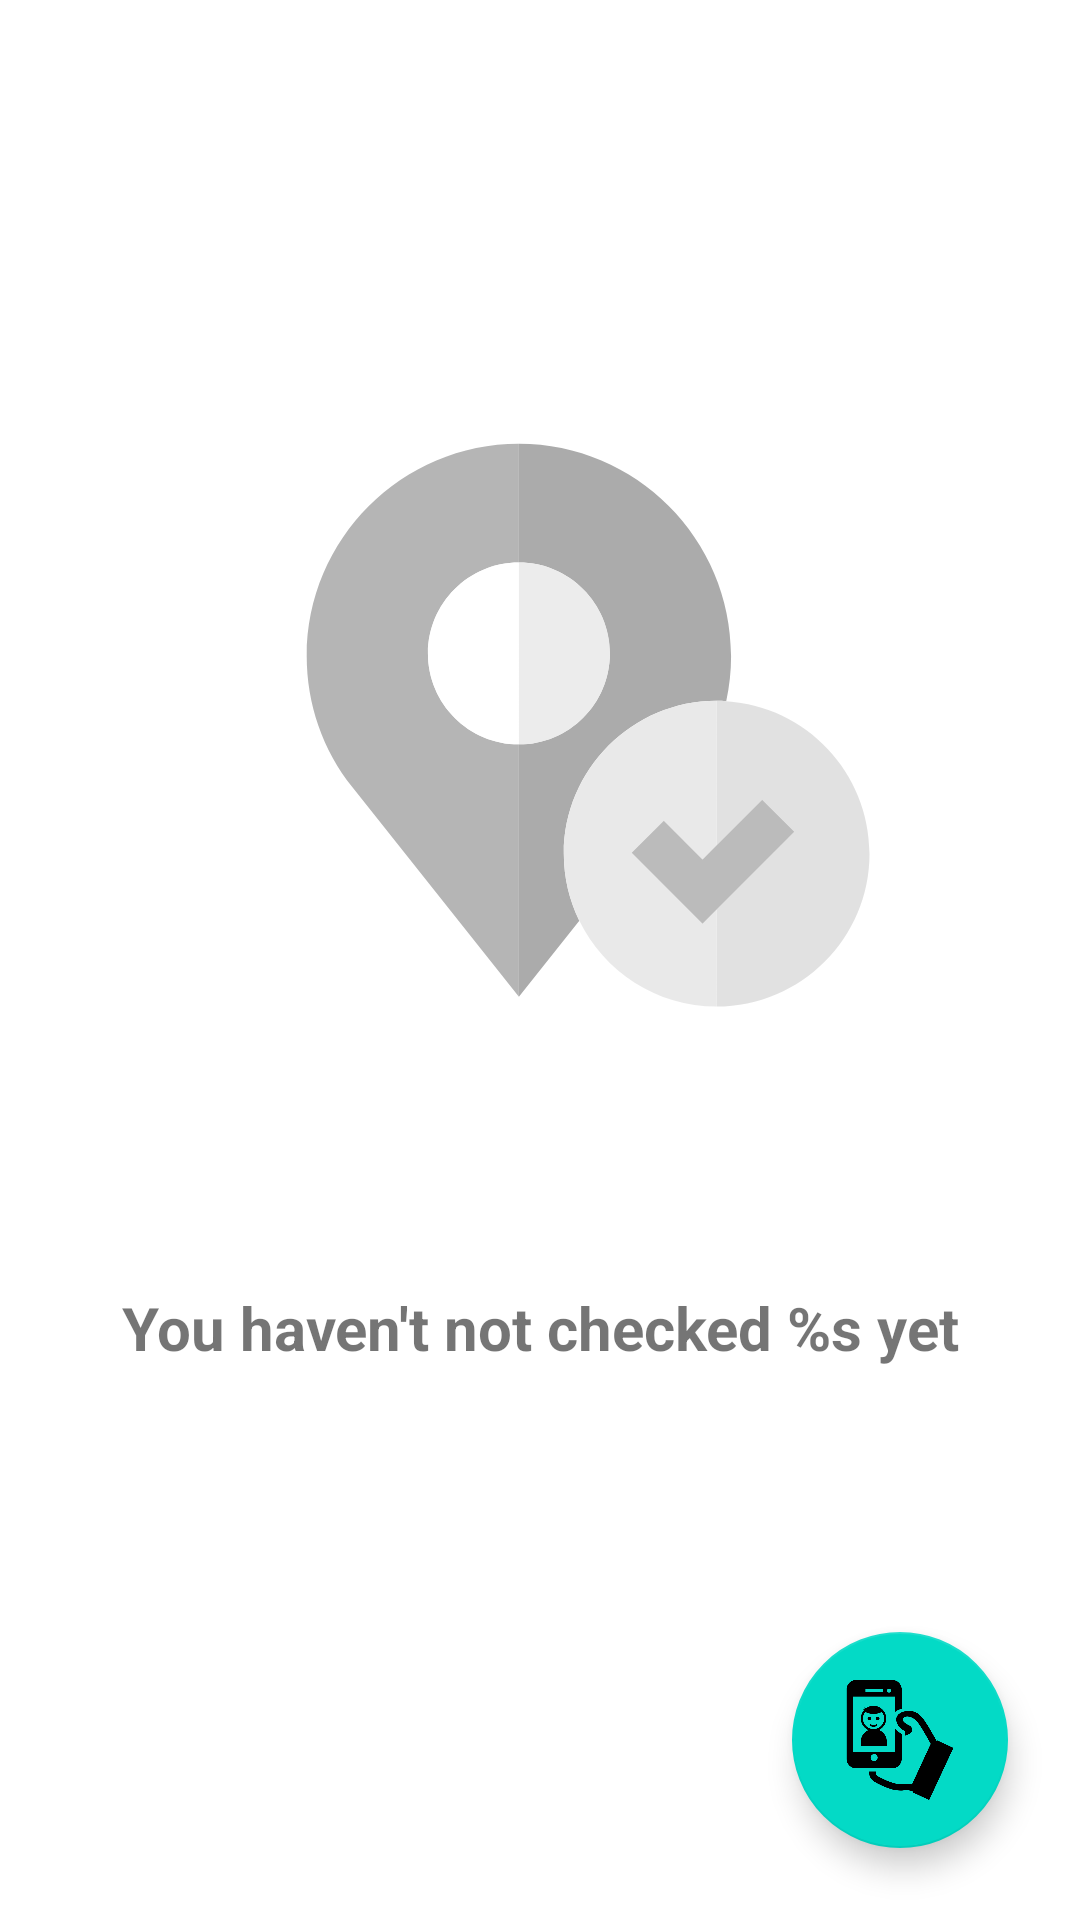

Point at icon controls on the screen. Image size 1080×1920, points as [x,y].
selfie: [900,1740]
